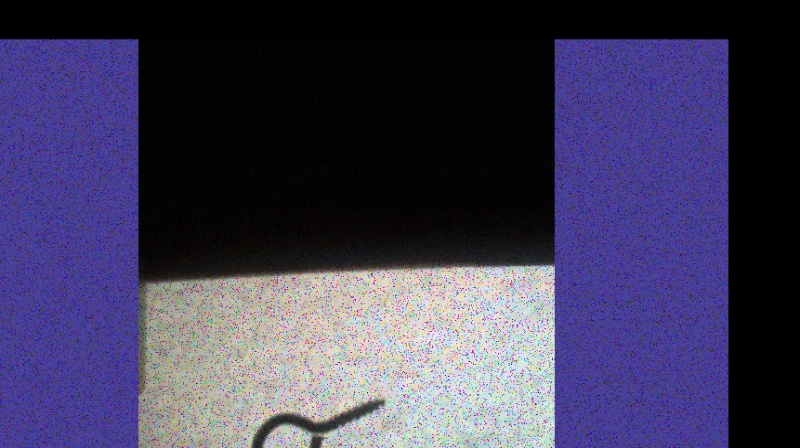O001: (247, 394, 388, 447)
